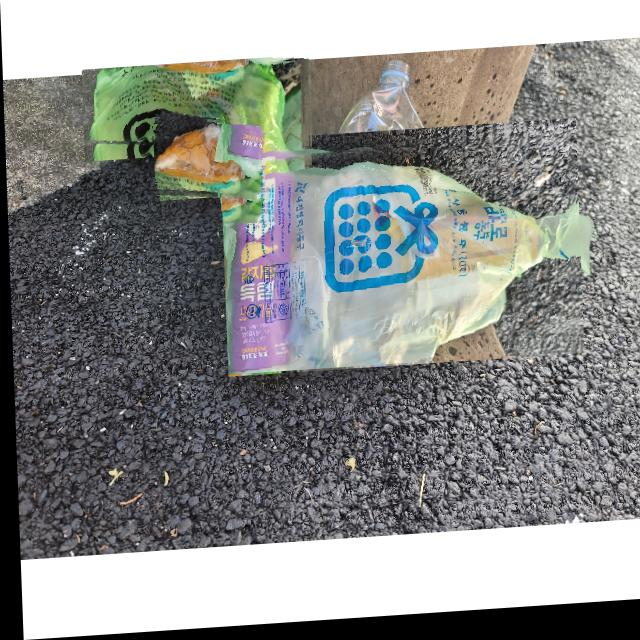general_trashbag: (219, 127, 574, 377), (82, 64, 308, 155)
other_trashbag: (153, 125, 264, 203)
